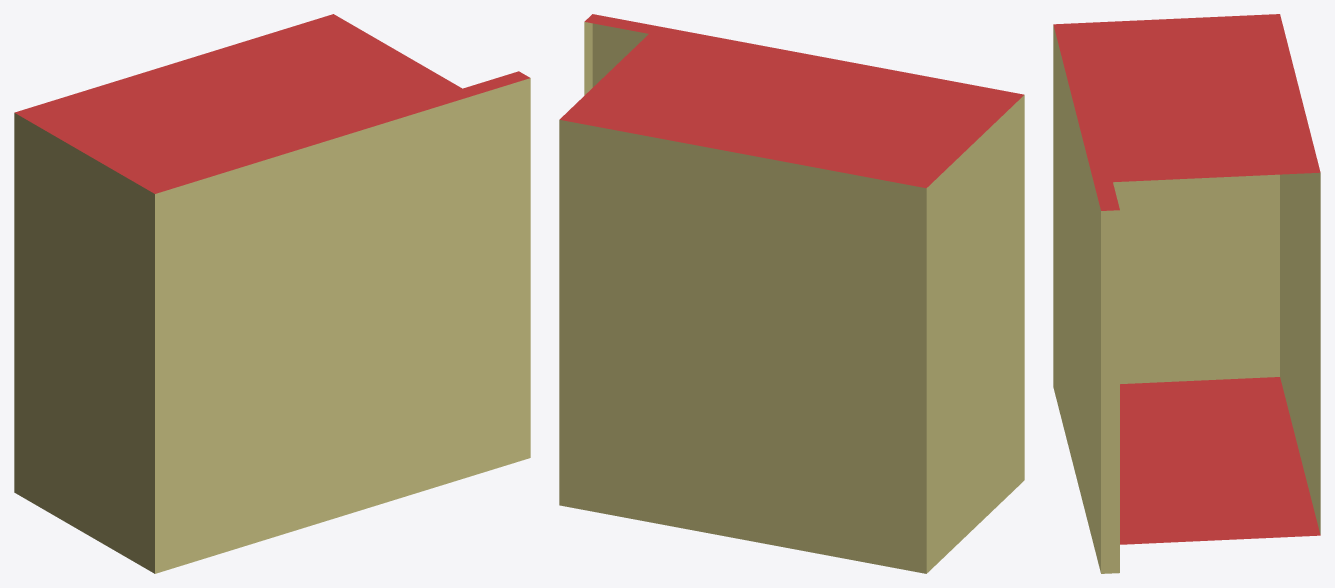
3 views of the same model, side by side, from view 1: azimuth 30°, elevation 25°; view 2: azimuth 150°, elevation 25°; view 3: azimuth 270°, elevation 25° (orthographic). The views are drawn at different scales.
Size of the model in its own units: 6.32 by 3.62 by 5.43.
